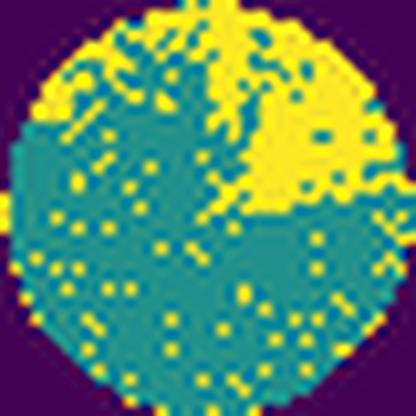Edge-Loc: (27, 0, 415, 215)
